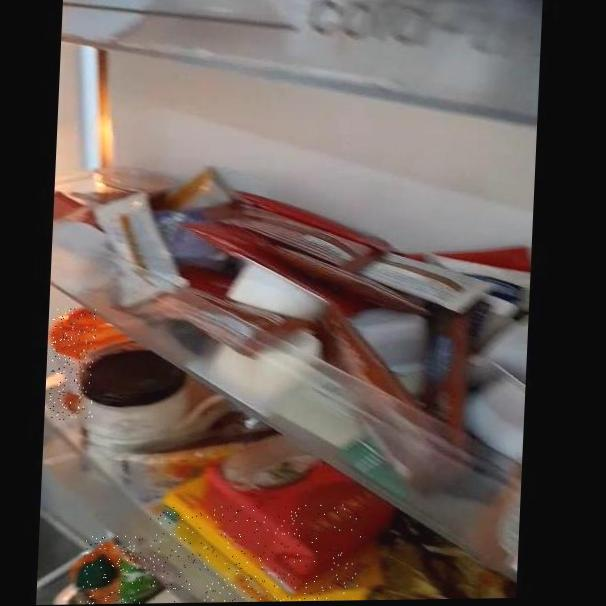butter: (146, 504, 362, 603)
juice: (80, 535, 147, 604)
sauce: (48, 308, 97, 420)
